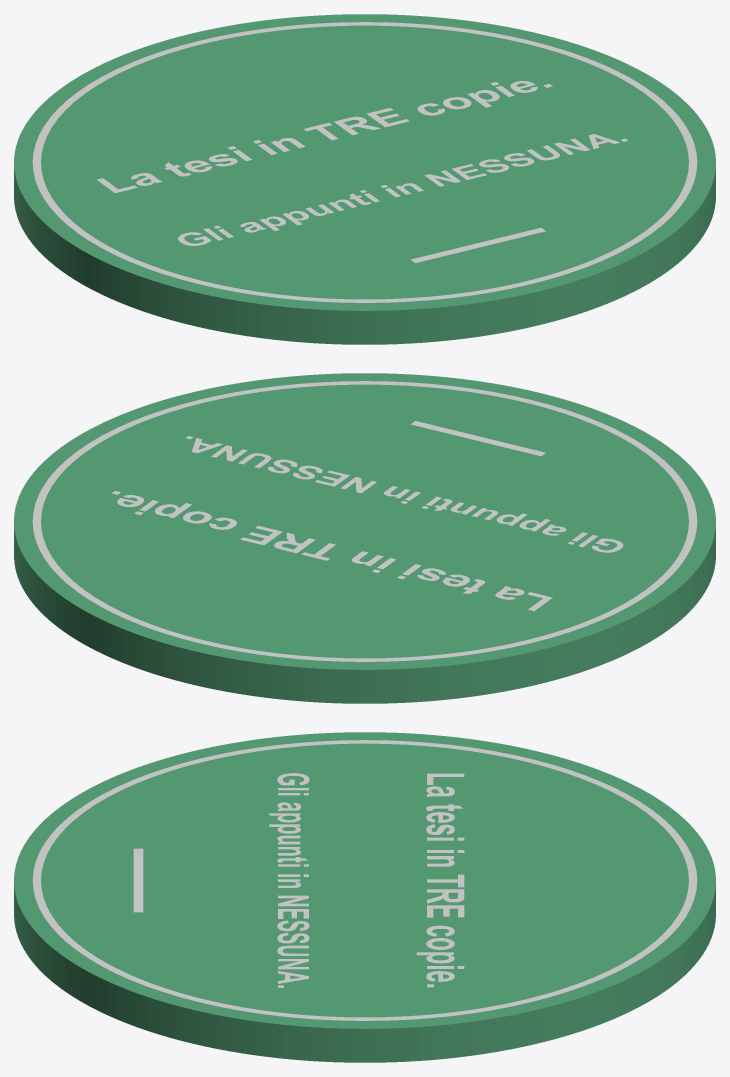
The model's file is sottobicchiere-tesi-tre-copie.glb.
3 views of the same model, one above another, from view 1: azimuth 30°, elevation 25°; view 2: azimuth 150°, elevation 25°; view 3: azimuth 270°, elevation 25° (orthographic).
Visible parts, largest first — view 1: coaster_base, coaster_ink; view 2: coaster_base, coaster_ink; view 3: coaster_base, coaster_ink.
Boxes of the visible parts, x1=… form: coaster_base: x1=14, y1=14, x2=715, y2=344; coaster_ink: x1=32, y1=22, x2=697, y2=302; coaster_base: x1=14, y1=373, x2=715, y2=703; coaster_ink: x1=32, y1=381, x2=697, y2=661; coaster_base: x1=14, y1=732, x2=715, y2=1062; coaster_ink: x1=32, y1=740, x2=697, y2=1020.
Size of the model in its own units: 0.075 by 0.004 by 0.075.
